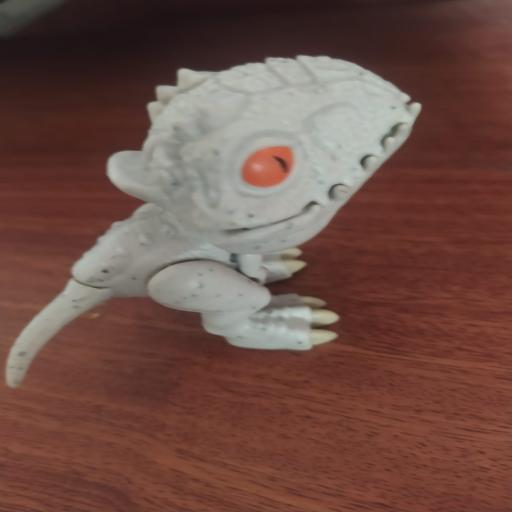Dinosaurio: (2, 46, 436, 396)
